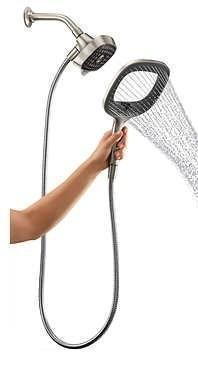Ducha: (18, 2, 197, 372)
